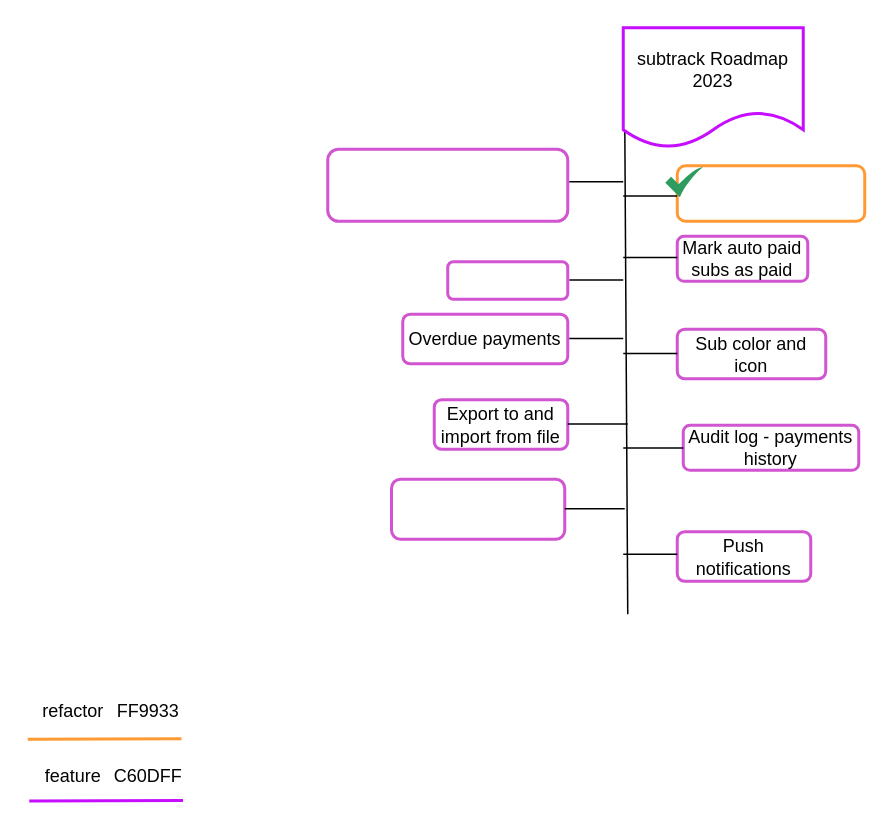
Some shapes in this 891 by 830 pixel diagram are drawn without their labels. The box of each missing label's shape, as (x1, y1, x2, y2) in pixels:
Billing cycle: (446, 260, 568, 300)
StartDate: payments on the last day of the month: (326, 147, 568, 222)
Startpage filtering and ordering: (389, 477, 566, 540)
Testable dates with IDateTimeProvider: (675, 164, 866, 222)
